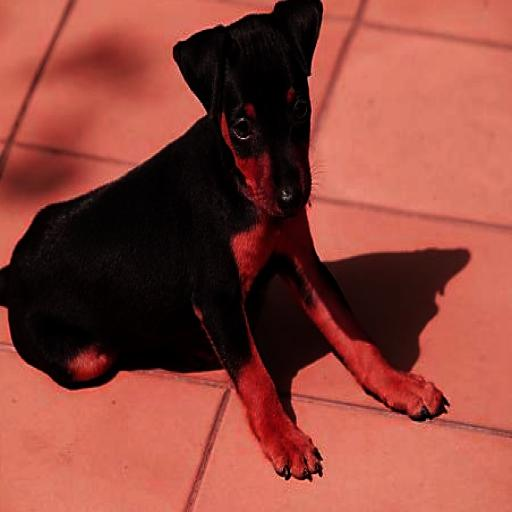dog_face: (177, 0, 323, 214)
